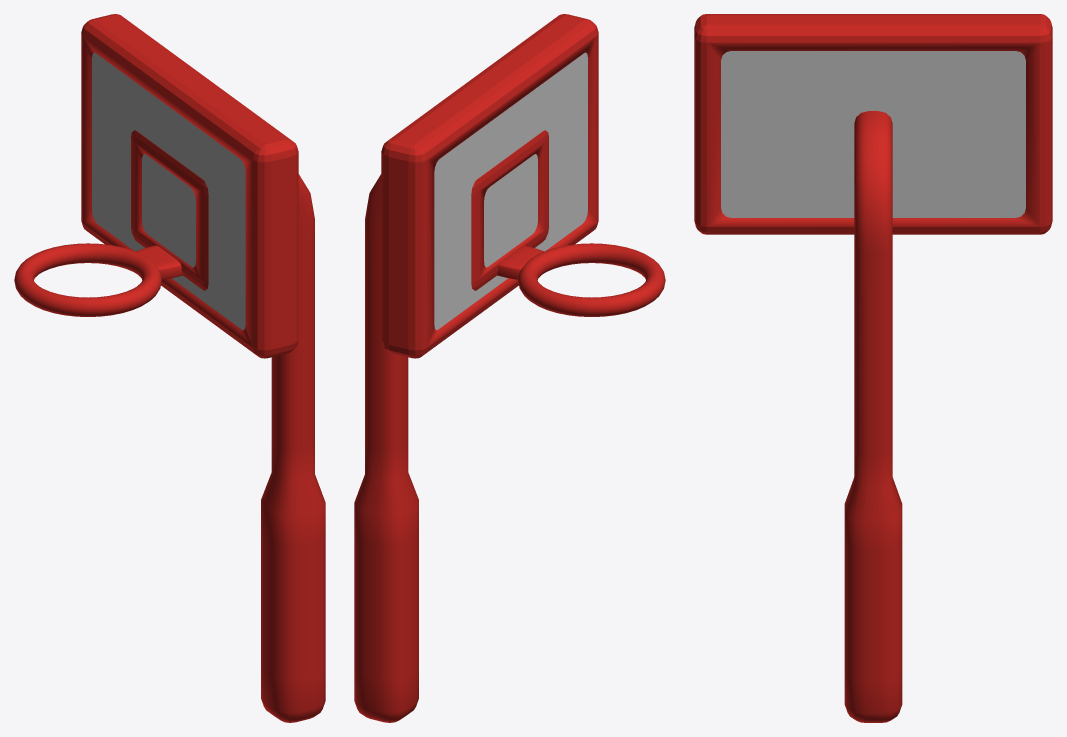
Rendered from basket.fbx.
The picture shows the model from 3 angles, left to right: view 1: azimuth 30°, elevation 25°; view 2: azimuth 150°, elevation 25°; view 3: azimuth 270°, elevation 25°; orthographic projection. The views are drawn at different scales.
Visible parts, largest first — view 1: Basket_fracturepart4, Basket_fracturepart2, Basket_fracturepart11_2, Basket_fracturepart11_3, Basket_fracturepart7_2, Basket_fracturepart2_2, Basket_fracturepart12, Basket_fracturepart9, Basket_fracturepart3_2, Basket_fracturepart5_5, Basket_fracturepart5_2, Basket_fracturepart7 (+8 smaller); view 2: Basket_fracturepart4, Basket_fracturepart7, Basket_fracturepart11_2, Basket_fracturepart11_3, Basket_fracturepart2_2, Basket_fracturepart12, Basket_fracturepart7_2, Basket_fracturepart9, Basket_fracturepart3_2, Basket_fracturepart2, Basket_fracturepart5_2, Basket_fracturepart5_5 (+8 smaller); view 3: Basket_fracturepart4, Basket_fracturepart11_3, Basket_fracturepart11_2, Basket_fracturepart7_2, Basket_fracturepart2_2, Basket_fracturepart12, Basket_fracturepart3_2, Basket_fracturepart7, Basket_fracturepart2, Basket_fracturepart14, Basket_fracturepart13_2, Basket_fracturepart10_2 (+7 smaller).
Boxes of the visible parts, bbox=[...] form: Basket_fracturepart4: bbox=[261, 382, 325, 722]; Basket_fracturepart2: bbox=[232, 141, 298, 358]; Basket_fracturepart11_2: bbox=[83, 14, 293, 165]; Basket_fracturepart11_3: bbox=[93, 52, 244, 191]; Basket_fracturepart7_2: bbox=[92, 53, 130, 215]; Basket_fracturepart2_2: bbox=[208, 167, 245, 330]; Basket_fracturepart12: bbox=[271, 198, 314, 389]; Basket_fracturepart9: bbox=[14, 259, 161, 316]; Basket_fracturepart3_2: bbox=[129, 138, 225, 254]; Basket_fracturepart5_5: bbox=[25, 243, 160, 278]; Basket_fracturepart5_2: bbox=[142, 170, 195, 283]; Basket_fracturepart7: bbox=[81, 23, 92, 219]; Basket_fracturepart4: bbox=[354, 380, 418, 722]; Basket_fracturepart7: bbox=[381, 143, 435, 358]; Basket_fracturepart11_2: bbox=[384, 14, 595, 164]; Basket_fracturepart11_3: bbox=[435, 52, 586, 197]; Basket_fracturepart2_2: bbox=[549, 53, 587, 229]; Basket_fracturepart12: bbox=[365, 196, 408, 392]; Basket_fracturepart7_2: bbox=[434, 166, 471, 325]; Basket_fracturepart9: bbox=[555, 243, 665, 316]; Basket_fracturepart3_2: bbox=[470, 110, 565, 216]; Basket_fracturepart2: bbox=[563, 14, 598, 235]; Basket_fracturepart5_2: bbox=[484, 211, 535, 291]; Basket_fracturepart5_5: bbox=[518, 248, 599, 316]; Basket_fracturepart4: bbox=[844, 392, 902, 722]; Basket_fracturepart11_3: bbox=[725, 51, 1020, 117]; Basket_fracturepart11_2: bbox=[701, 14, 1047, 53]; Basket_fracturepart7_2: bbox=[917, 53, 1025, 217]; Basket_fracturepart2_2: bbox=[721, 53, 813, 217]; Basket_fracturepart12: bbox=[854, 210, 892, 399]; Basket_fracturepart3_2: bbox=[773, 102, 939, 179]; Basket_fracturepart7: bbox=[991, 17, 1052, 234]; Basket_fracturepart2: bbox=[694, 15, 748, 234]; Basket_fracturepart14: bbox=[854, 114, 892, 214]; Basket_fracturepart13_2: bbox=[829, 152, 921, 217]; Basket_fracturepart10_2: bbox=[918, 160, 991, 217].
Bounding box in the file's own units: 346 × 741 × 371.
